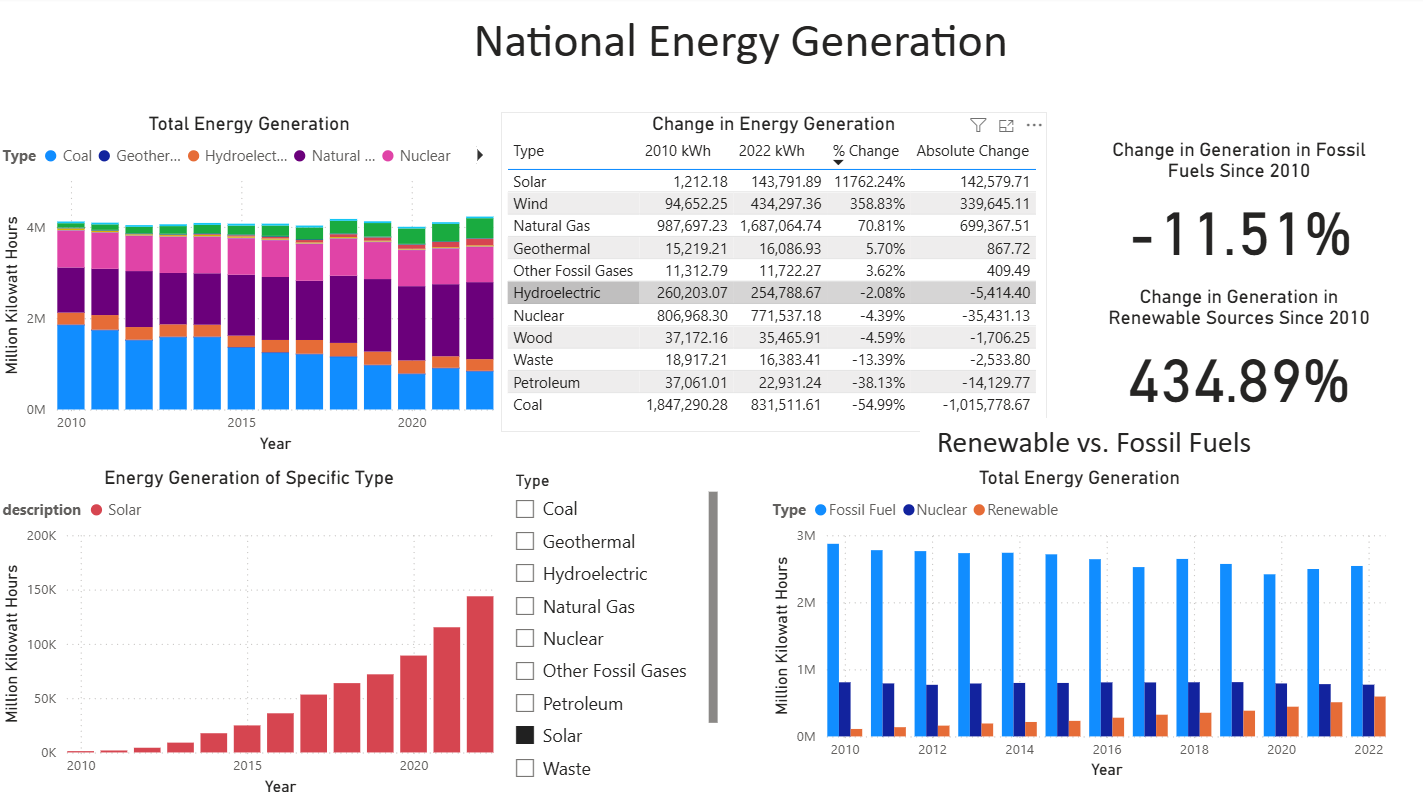

The dashboard page shown, as its layout file describes it:
{"tool":"powerbi","page":{"name":"Energy Generation","canvas":[1280,720],"ordinal":4},"visuals":[{"type":"columnChart","title":"Total Energy Generation","fields":{"Category":["energy_generation_all_sectors.YEAR"],"Y":["Sum(energy_generation_all_sectors.VALUE)"],"Series":["energy_generation_all_sectors.description"]},"box":[0,103.2,451.6,309.7],"z":0},{"type":"columnChart","title":"Energy Generation of Specific Type","fields":{"Category":["energy_generation_all_sectors.YEAR"],"Y":["Sum(energy_generation_all_sectors.VALUE)"],"Series":["energy_generation_all_sectors.description"]},"box":[0,420.1,451.6,299.9],"z":1000},{"type":"slicer","title":"Type","fields":{"Values":["energy_generation_all_sectors.description"]},"box":[451.6,420.1,199.3,285.5],"z":2000},{"type":"tableEx","title":"Change in Energy Generation","fields":{"Values":["energy_generation_all_sectors.description","energy_generation_all_sectors.generation_2010","energy_generation_all_sectors.generation_2022","energy_generation_all_sectors.generation_change","energy_generation_all_sectors.abs_gen_change"]},"box":[451.6,103.2,488.4,286.4],"z":3000},{"type":"textbox","box":[416.3,6.8,499,65.2],"z":5000},{"type":"textbox","box":[826.8,377.1,311.5,43.1],"z":6000},{"type":"clusteredColumnChart","title":"Total Energy Generation","fields":{"Category":["energy_generation_all_sectors.YEAR"],"Y":["Sum(energy_generation_all_sectors.VALUE)"],"Series":["energy_generation_all_sectors.category"]},"box":[689.5,420.1,559.3,285.5],"z":7000},{"type":"card","title":"Change in Generation From Fossil Fuels Since 2010","fields":{"Values":["energy_generation_all_sectors.generation_change"]},"box":[976.5,257.8,272.3,119.6],"z":8000},{"type":"card","title":"Change in Generation From Fossil Fuels Since 2010","fields":{"Values":["energy_generation_all_sectors.generation_change"]},"box":[976.5,126.4,272.3,119.6],"z":9000}]}

Visuals, with their boxes in screenshot pixels (x1, y1, x2, y2), scaled from the page's 1280x720 canvas onto the 1423x799 screenshot:
"Total Energy Generation" columnChart: {"x1": 0, "y1": 115, "x2": 502, "y2": 458}
"Energy Generation of Specific Type" columnChart: {"x1": 0, "y1": 466, "x2": 502, "y2": 798}
"Type" slicer: {"x1": 502, "y1": 466, "x2": 724, "y2": 783}
"Change in Energy Generation" tableEx: {"x1": 502, "y1": 115, "x2": 1045, "y2": 432}
textbox: {"x1": 463, "y1": 8, "x2": 1018, "y2": 80}
textbox: {"x1": 919, "y1": 418, "x2": 1265, "y2": 466}
"Total Energy Generation" clusteredColumnChart: {"x1": 767, "y1": 466, "x2": 1388, "y2": 783}
"Change in Generation From Fossil Fuels Since 2010" card: {"x1": 1086, "y1": 286, "x2": 1388, "y2": 419}
"Change in Generation From Fossil Fuels Since 2010" card: {"x1": 1086, "y1": 140, "x2": 1388, "y2": 273}
